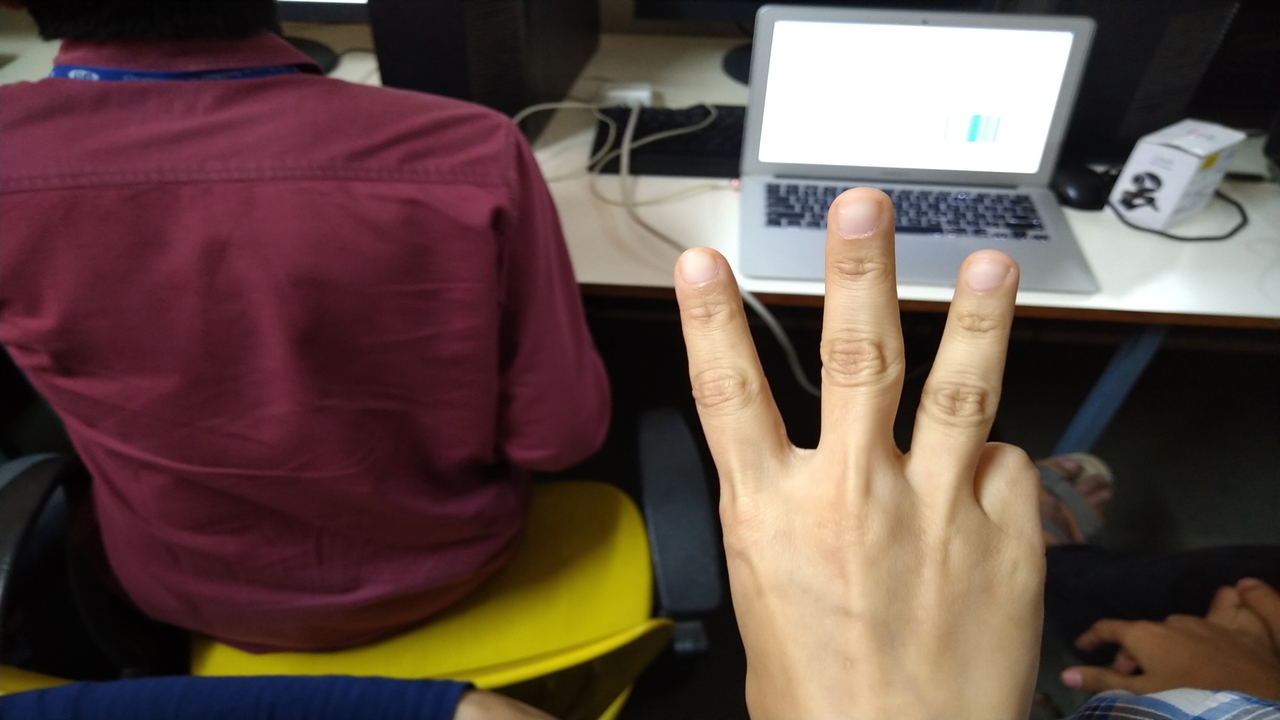fingertip: (958, 244, 1032, 310), (828, 182, 900, 248), (666, 244, 740, 308)
